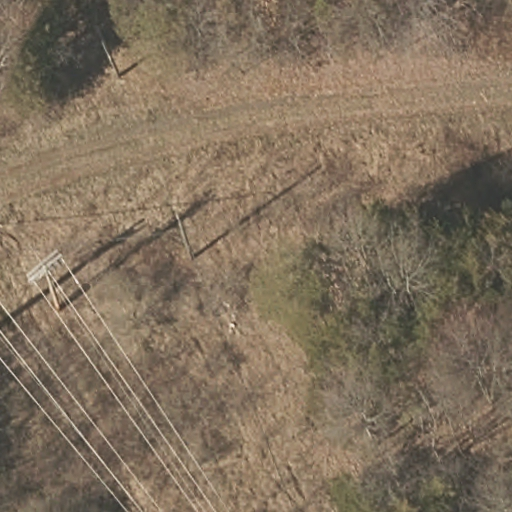DT: (25, 249, 65, 286)
